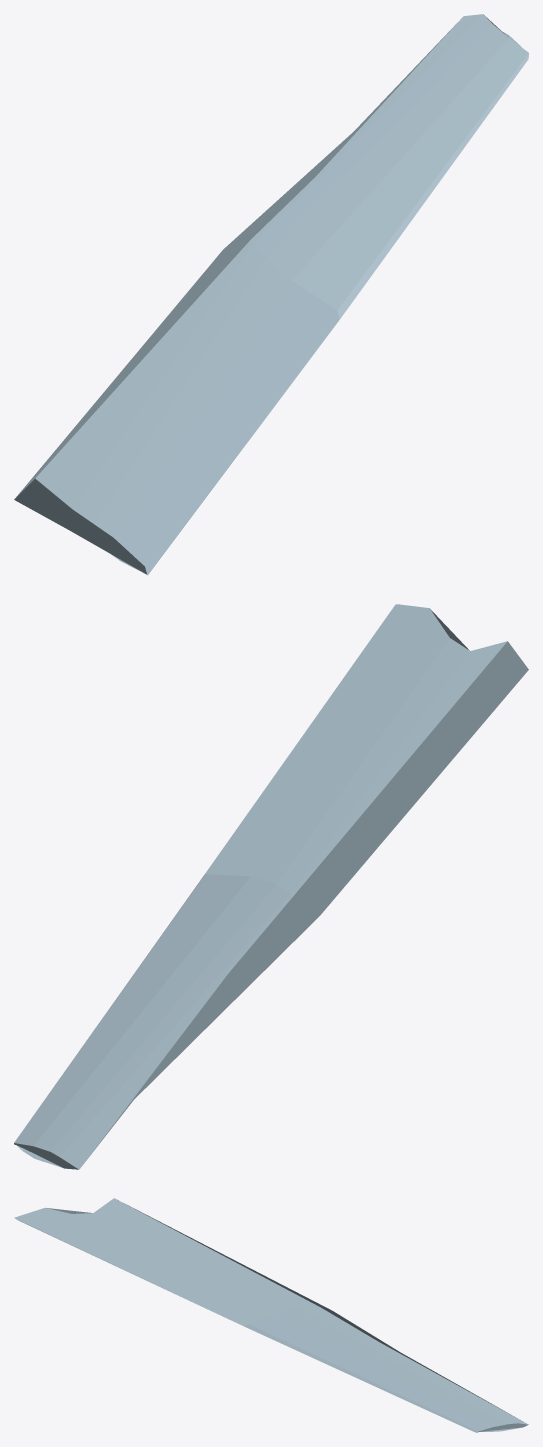
The model's file is su33d_slat_left.glb.
3 renders of one model, top to bottom at view 1: azimuth 30°, elevation 25°; view 2: azimuth 210°, elevation 25°; view 3: azimuth 270°, elevation 25°, orthographic. The views are drawn at different scales.
Parts seen in each view (by area): view 1: 0_SlatLeft; view 2: 0_SlatLeft; view 3: 0_SlatLeft.
Boxes of the visible parts, <box> form: 0_SlatLeft: <box>14,14,528,575</box>; 0_SlatLeft: <box>14,604,528,1169</box>; 0_SlatLeft: <box>14,1198,528,1432</box>.
Bounding box in the file's own units: 3.48 × 0.1624 × 3.48.
